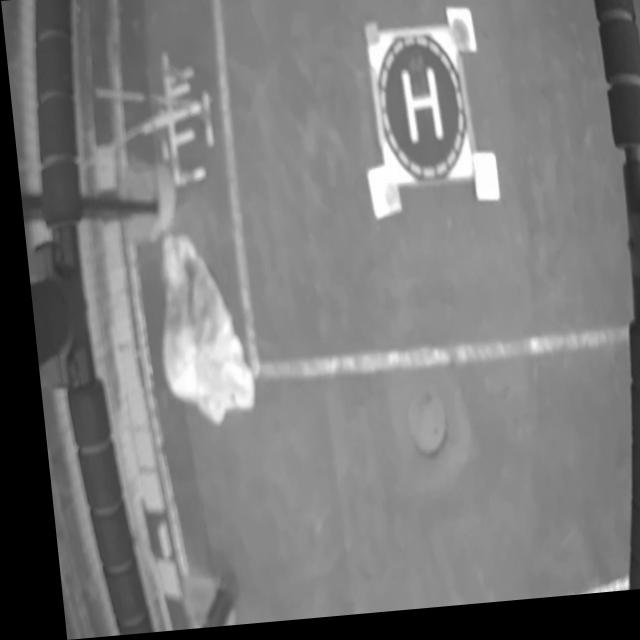Helipad: (398, 73, 440, 149)
